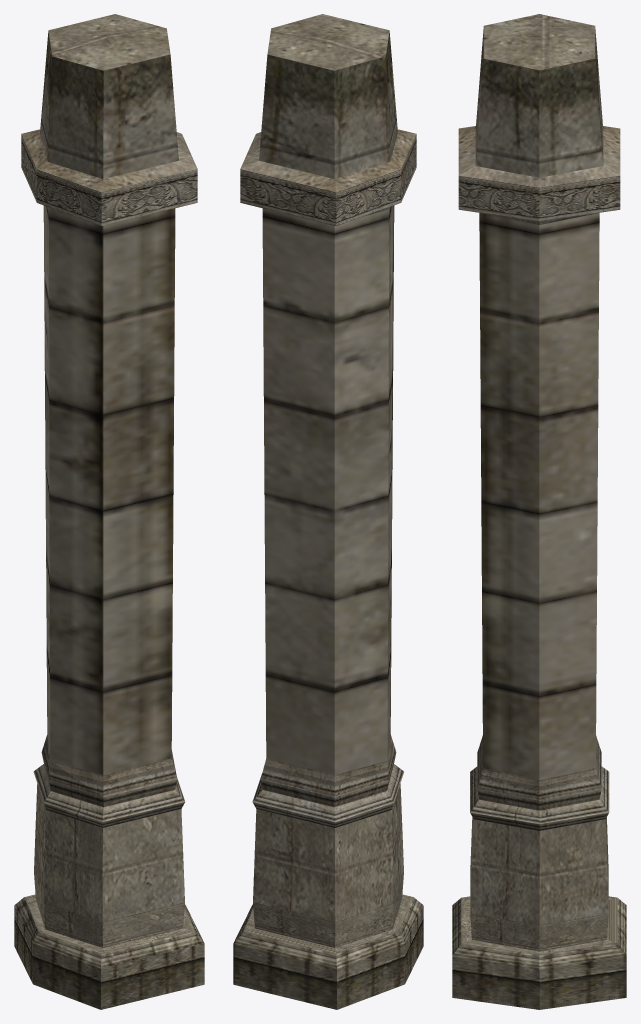
The model's file is SM_Plains_Column_Small_01.FBX.
The picture shows the model from 3 angles, left to right: view 1: azimuth 30°, elevation 25°; view 2: azimuth 150°, elevation 25°; view 3: azimuth 270°, elevation 25°; orthographic projection.
Parts seen in each view (by area): view 1: SM_Plains_Column_Small_01; view 2: SM_Plains_Column_Small_01; view 3: SM_Plains_Column_Small_01.
Part boxes in pixels (box(x1,y1,x2,y2)): SM_Plains_Column_Small_01: box(14, 14, 204, 1009); SM_Plains_Column_Small_01: box(233, 14, 423, 1009); SM_Plains_Column_Small_01: box(452, 14, 626, 1009).
Bounding box in the file's own units: 28.34 × 164 × 27.76.
